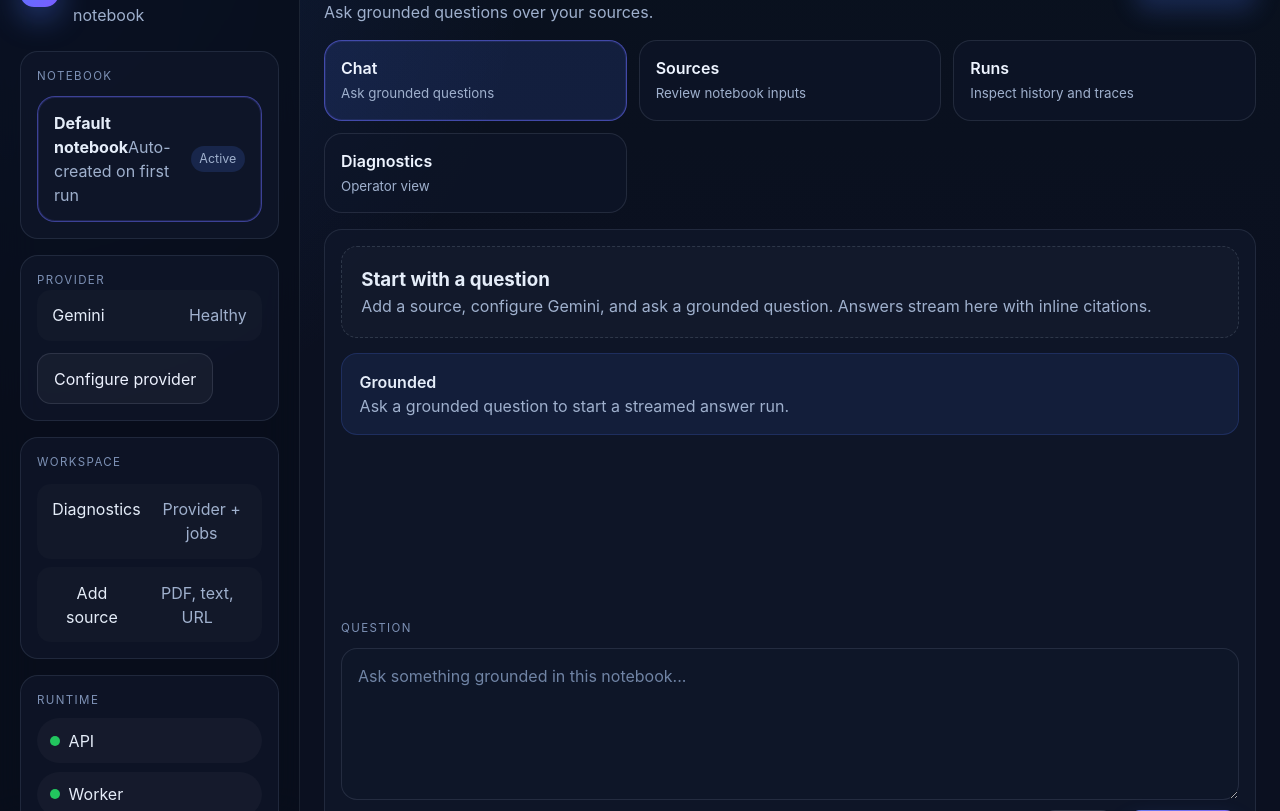
Test: Grounded shell › surfaces stream failures and refreshes failed run state
This screenshot has width=1280, height=811.
Step 1. Type "Will streaming fail?" into the text box labelled "Question" → (790, 724), box 341,648 -> 1239,800
(page scrolled)
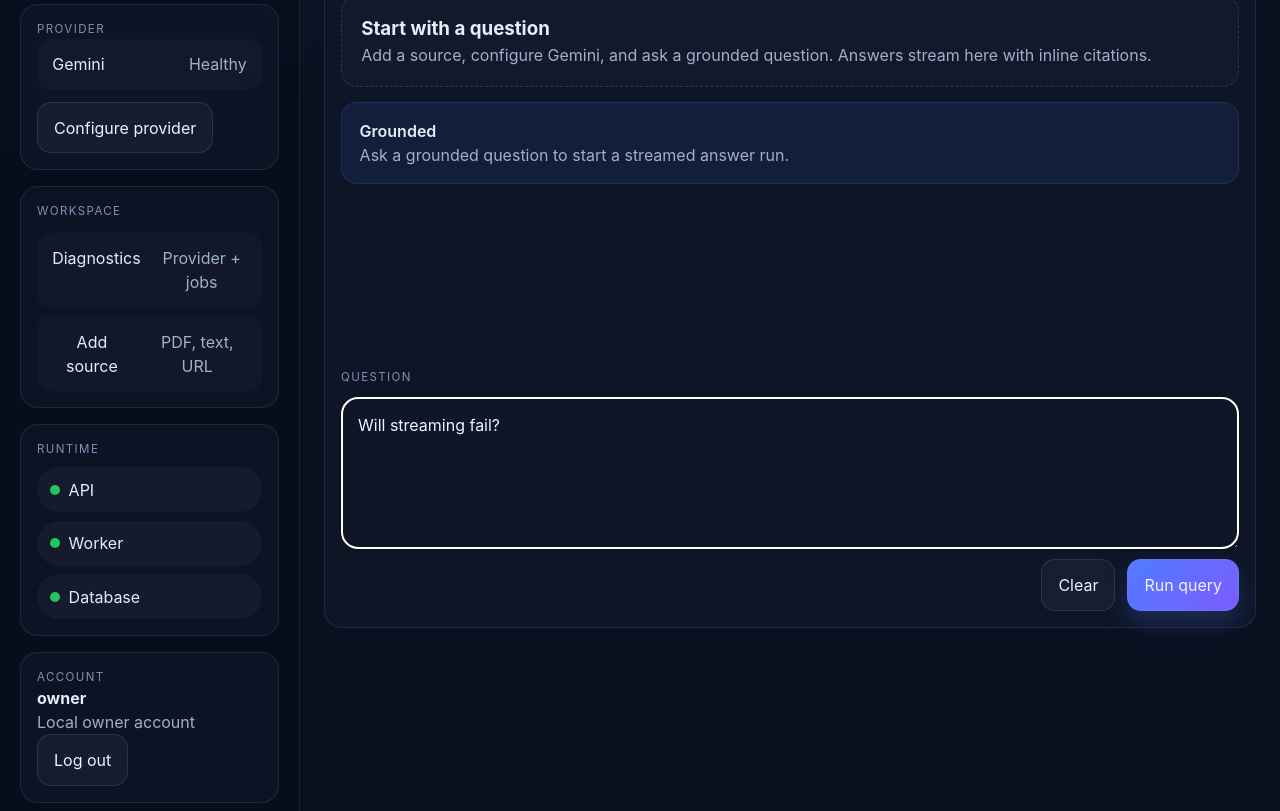
Step 2. Click the button "Run query" → (1183, 585), box 1127,559 -> 1239,611
(page scrolled)
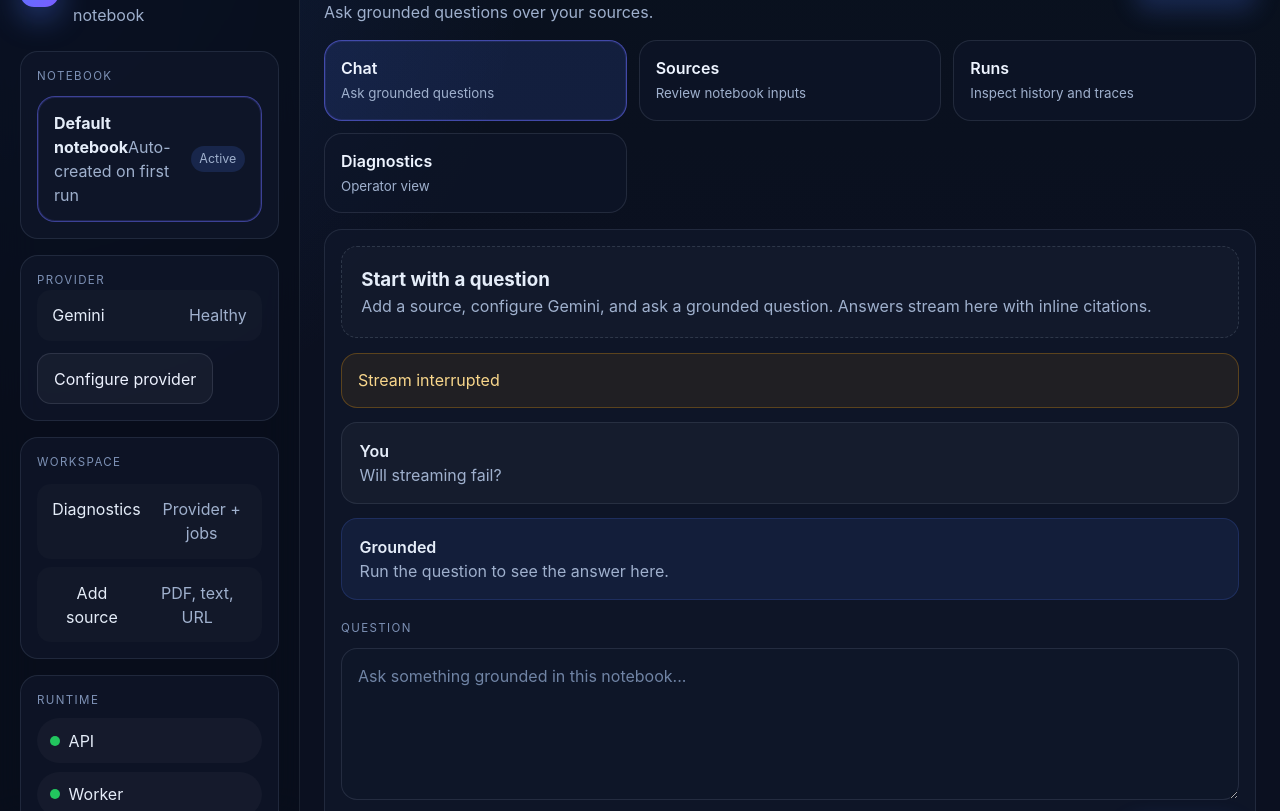
Expected: the text "Stream interrupted" is shown, 341,353 -> 1239,408
Step 3. Click the button "Runs Inspect history and traces" → (990, 68), box 953,40 -> 1256,121
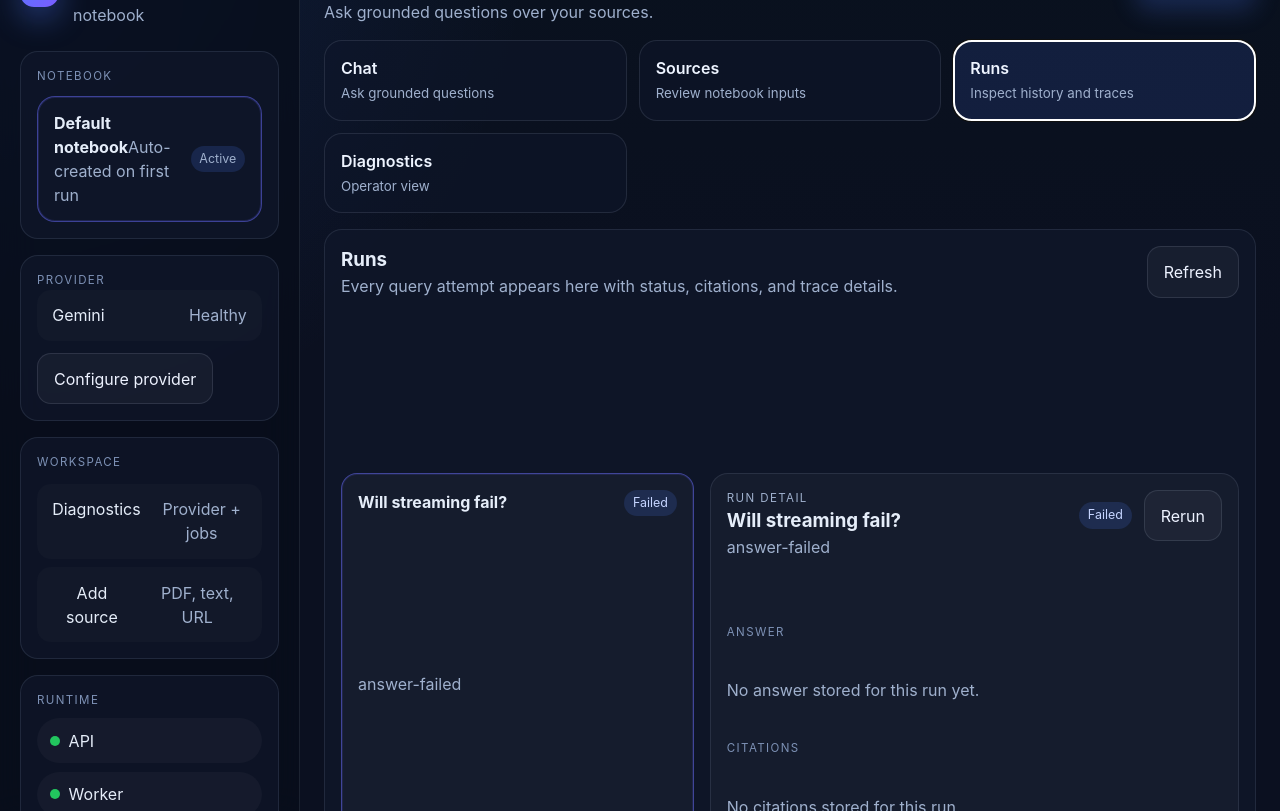
Expected: the 1st text "Failed" is shown, 624,490 -> 677,516
